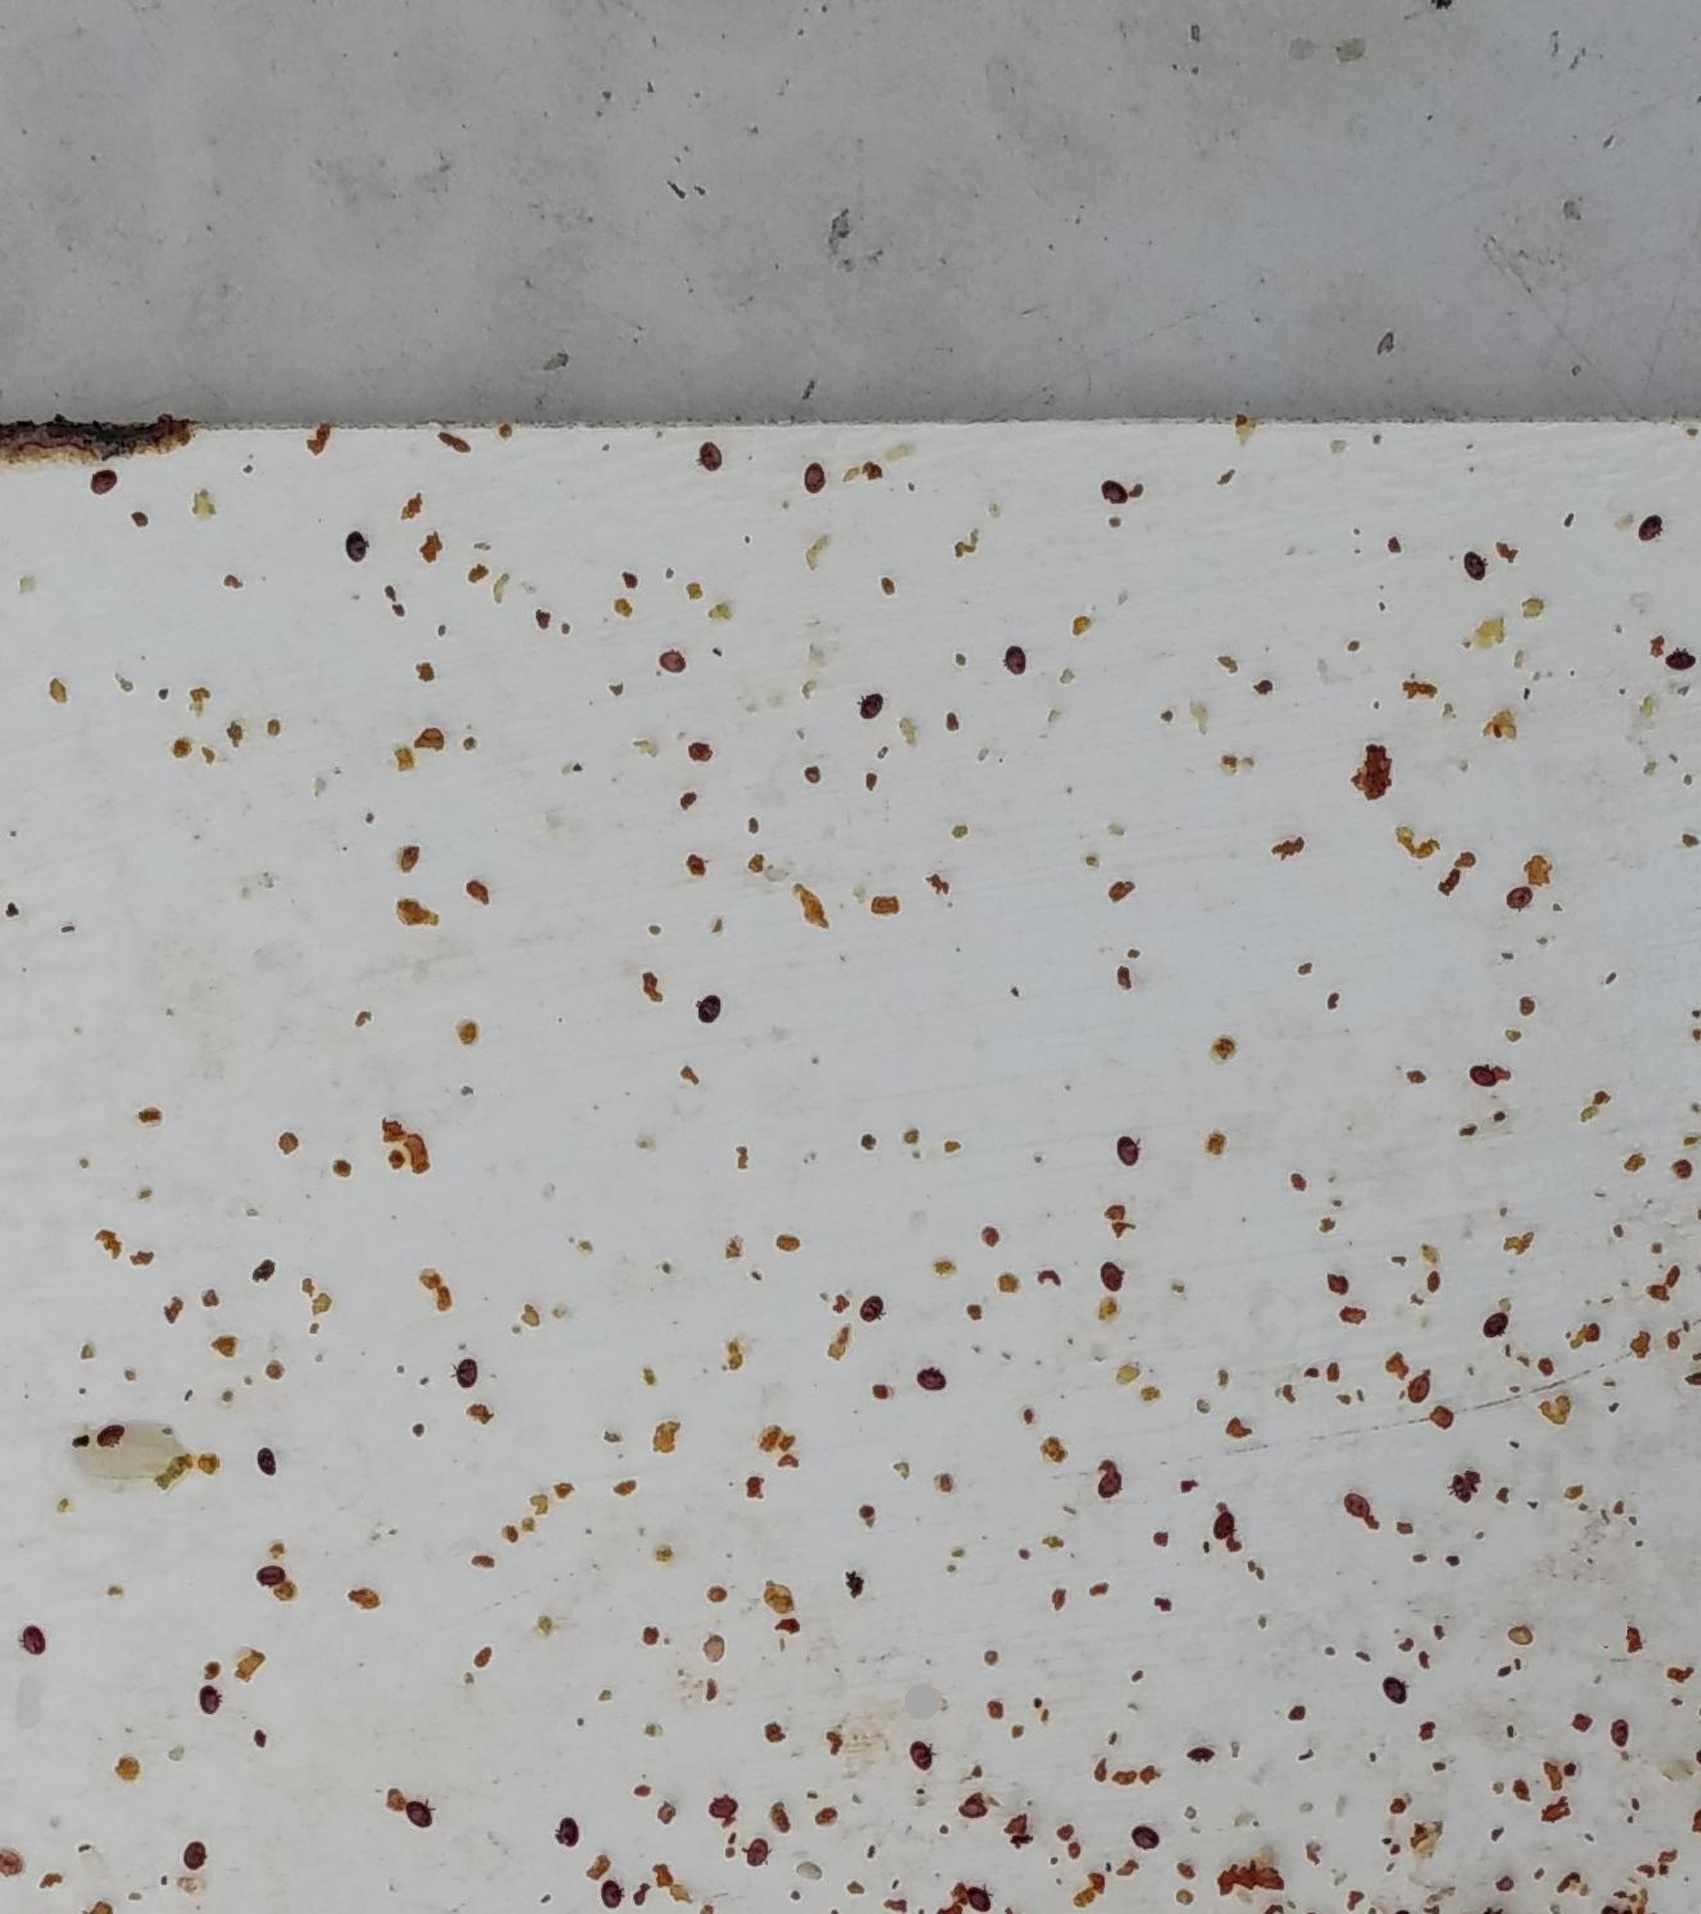Varroa: (1601, 1717, 1637, 1753), (691, 440, 726, 474), (1445, 1466, 1479, 1500), (1182, 1735, 1217, 1770), (1397, 1372, 1430, 1405), (1097, 478, 1130, 511), (253, 1440, 286, 1472), (89, 466, 120, 501), (94, 1420, 125, 1453), (852, 1292, 883, 1325), (956, 1786, 987, 1819), (176, 1838, 207, 1871), (1087, 1471, 1120, 1502), (448, 1361, 479, 1392), (905, 1738, 934, 1770), (1000, 648, 1029, 680), (1479, 1305, 1509, 1336), (798, 463, 828, 492), (658, 647, 688, 676), (402, 1797, 432, 1827), (691, 995, 721, 1024), (552, 1817, 581, 1847), (1130, 1825, 1158, 1855), (1634, 515, 1662, 545), (740, 1835, 768, 1865), (594, 1876, 622, 1906), (699, 1628, 727, 1658), (1098, 1266, 1126, 1295), (1208, 1509, 1236, 1538), (919, 1366, 947, 1394), (194, 1686, 222, 1714), (708, 1796, 736, 1824), (1461, 552, 1489, 579), (1341, 1492, 1369, 1520), (859, 689, 887, 717), (1662, 648, 1690, 676), (342, 533, 368, 563), (259, 1561, 286, 1591), (1469, 1065, 1496, 1093), (1379, 1683, 1405, 1710), (20, 1625, 46, 1653), (1506, 890, 1530, 916), (1116, 1138, 1143, 1162)
